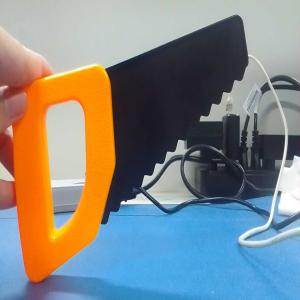serrote: (32, 13, 249, 284)
